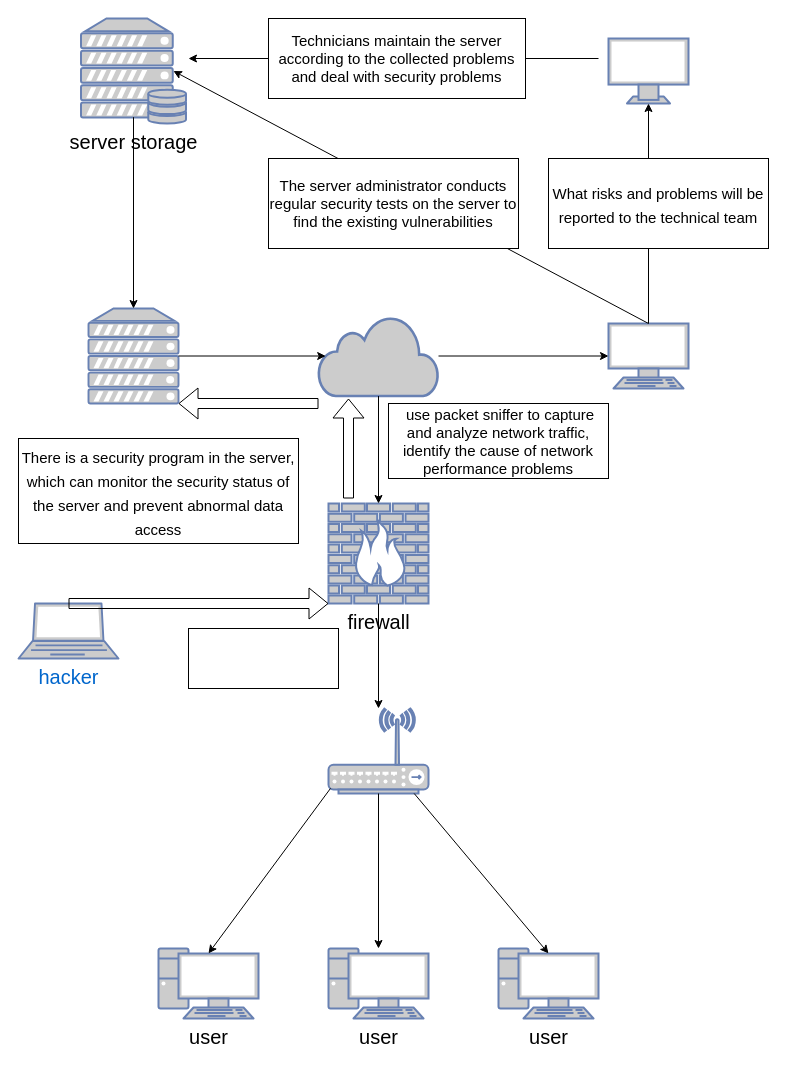
The diagram is 786 pixels wide and 1066 high, and some of its shapes have lost their labels. The shapes that lost their labels are listed below. From the top down, each one's centre as x and y in pixels, then its label:
At (648,70): "artisan".
At (133,355): "server".
At (378,355): "cloud".
At (648,355): "admin".
At (263,658): "Firewalls prevent hackers from invading to a certain extent".
At (378,750): "wireless hub".
